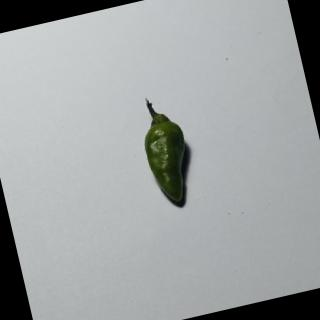Cabai Hijau: (123, 86, 211, 215)
